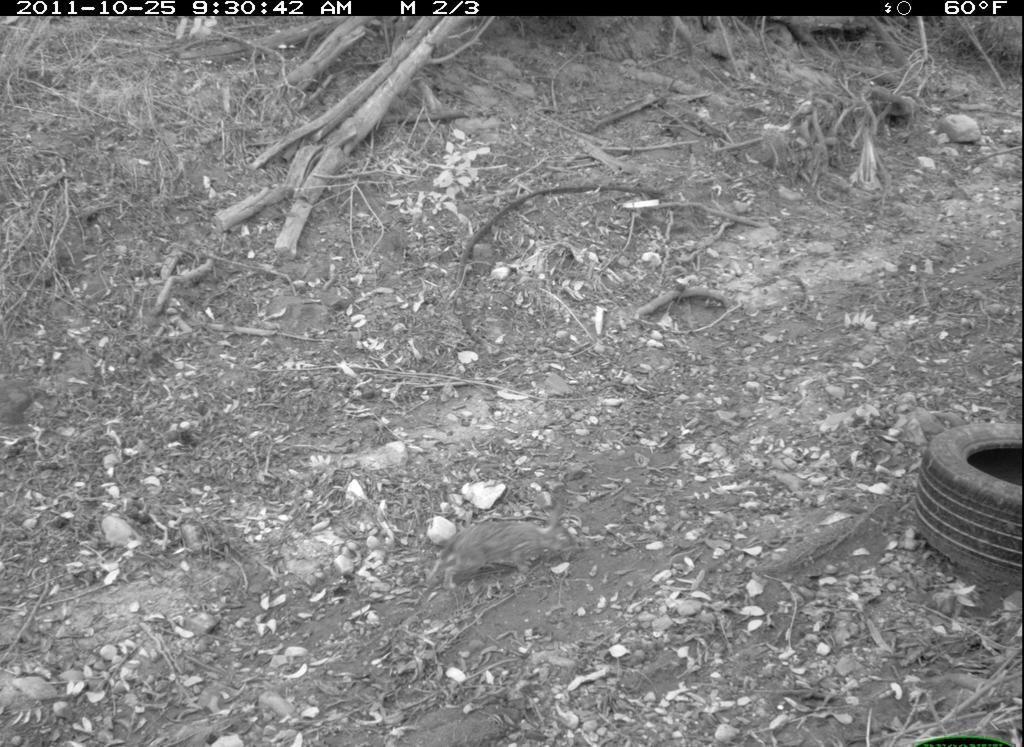rabbit: (436, 487, 582, 596)
